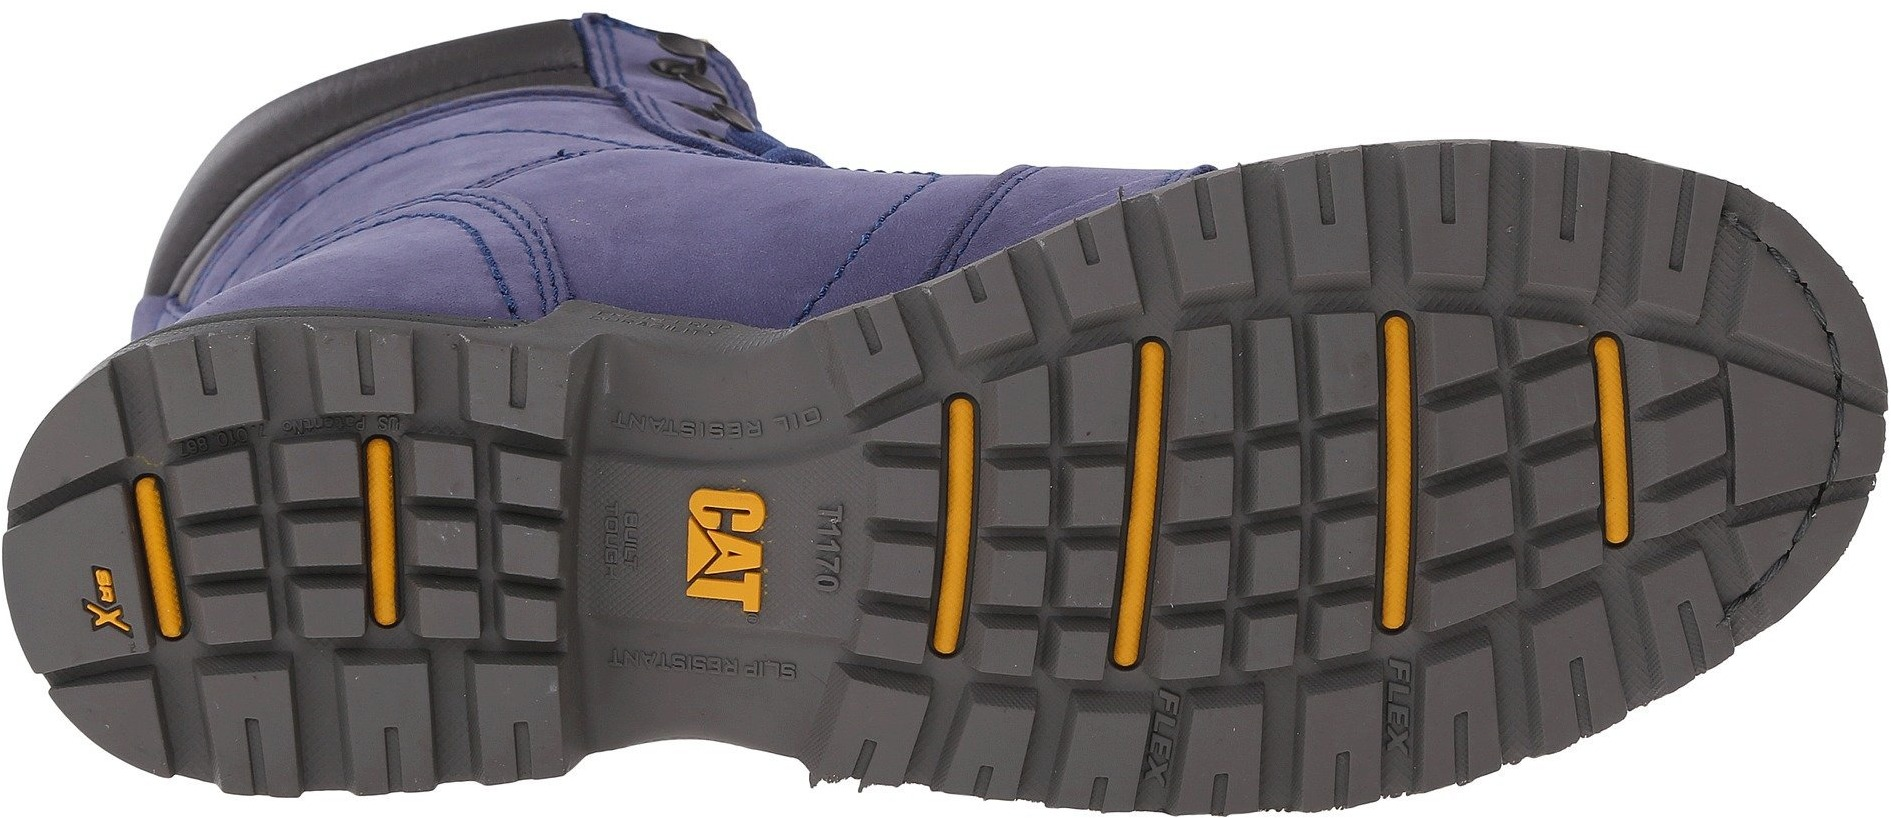exclude: (1, 2, 1240, 428), (558, 319, 873, 771)
other: (1740, 395, 1819, 473)
quad: (1161, 306, 1520, 641), (857, 446, 1132, 693), (253, 420, 516, 666), (1509, 148, 1731, 344), (314, 649, 463, 790)
text: (1103, 684, 1218, 794), (1348, 647, 1445, 765), (55, 556, 146, 647)
